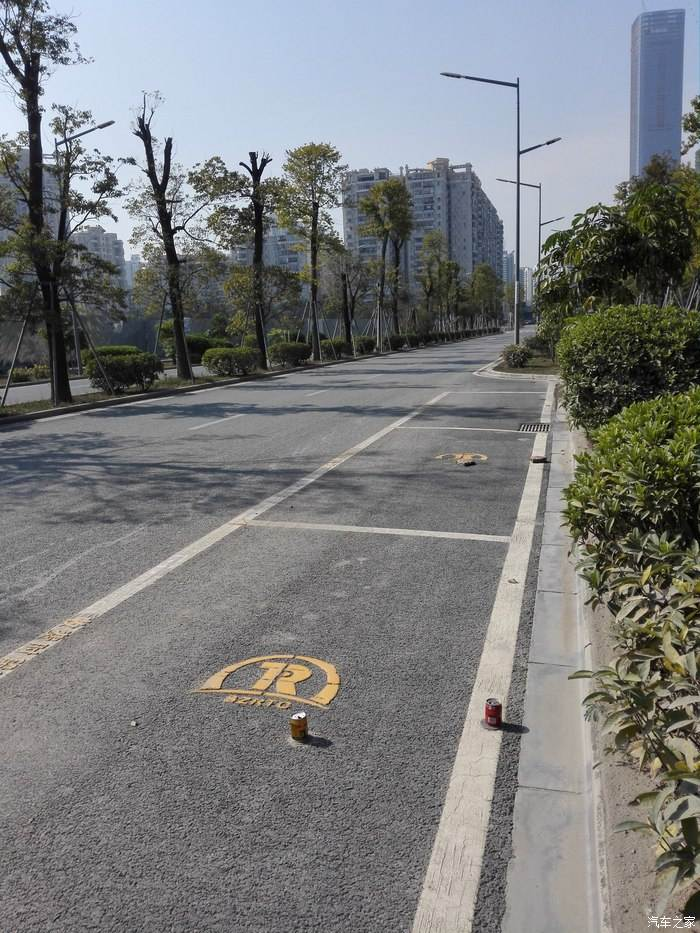slot_nocar: (3, 496, 517, 933), (207, 419, 569, 553), (365, 375, 565, 452)
